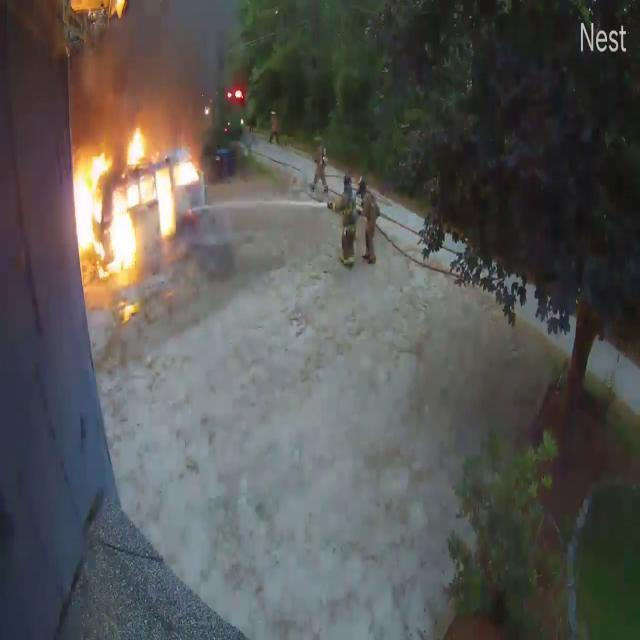Fire: (72, 120, 198, 280)
Smoke: (74, 0, 238, 142)
